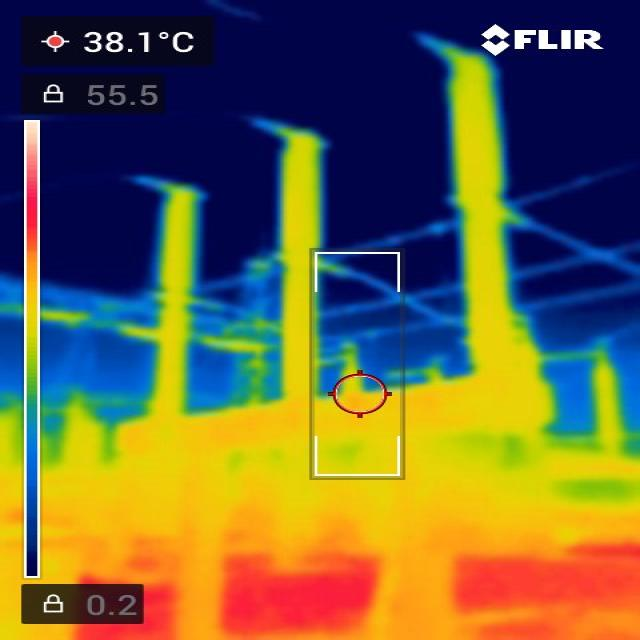Zona_Critica: (224, 559, 380, 634), (456, 548, 637, 611), (80, 585, 176, 636)
